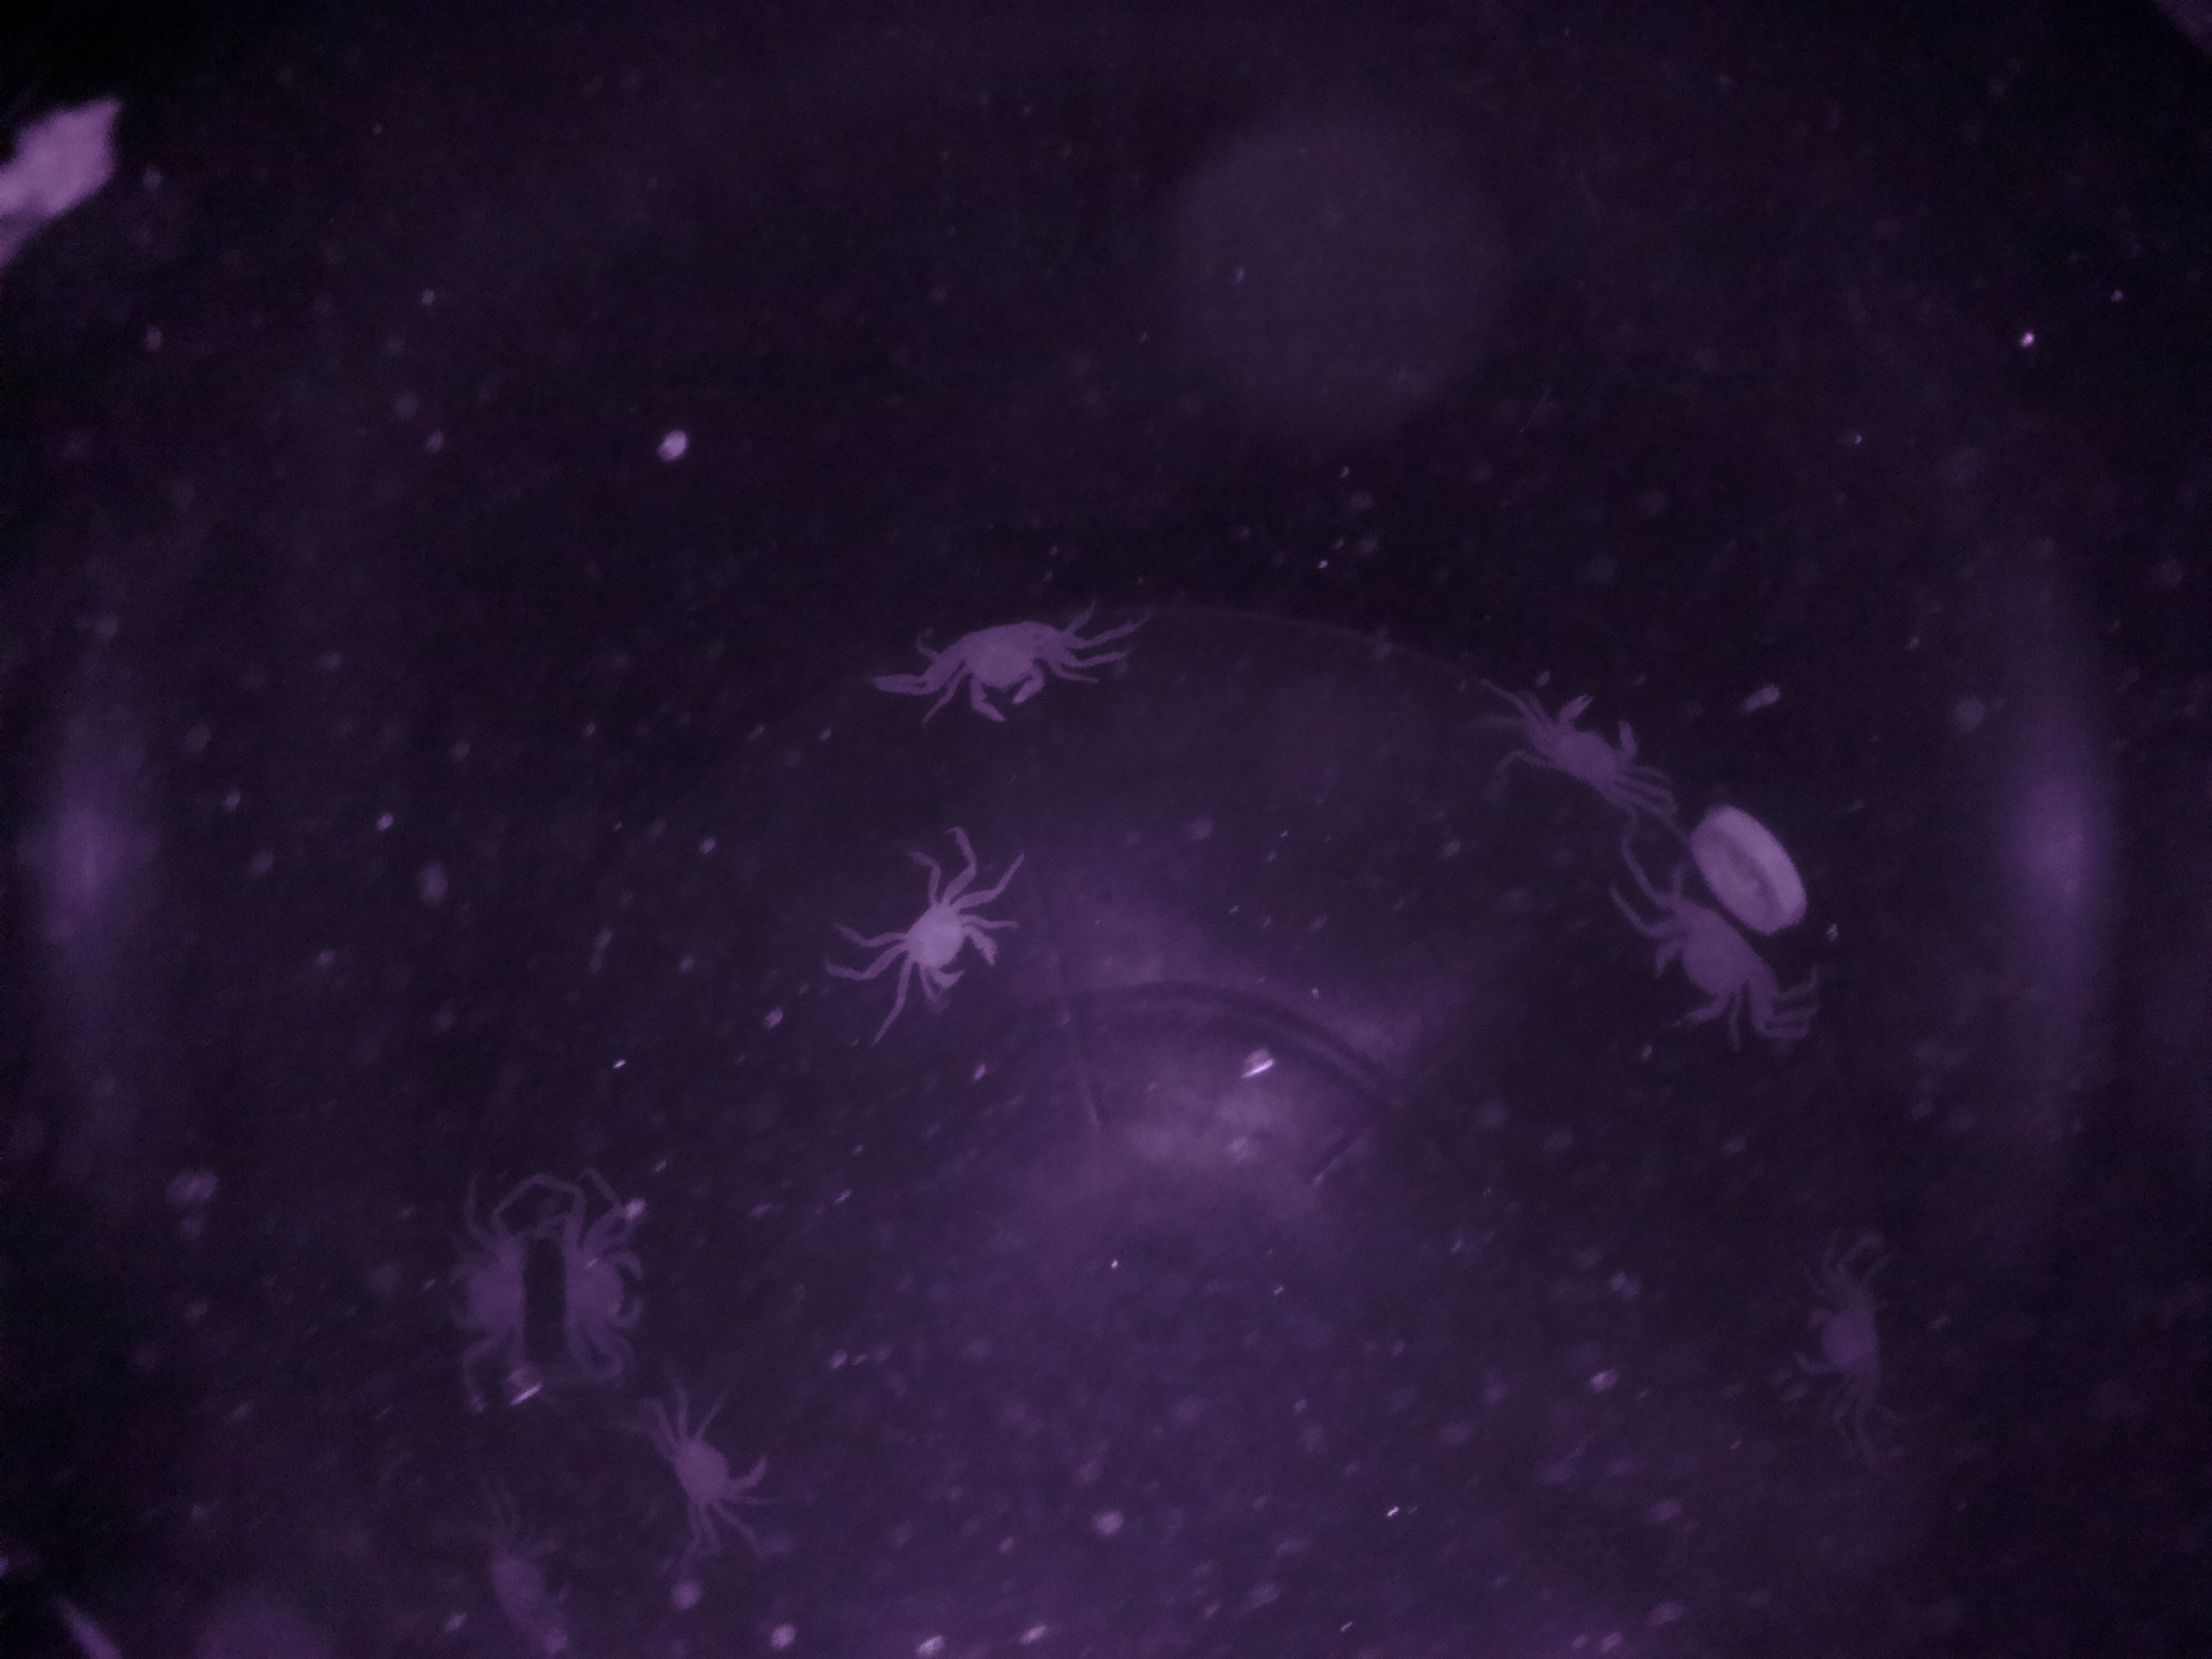Crab: (1623, 873, 1791, 1049), (899, 598, 1094, 742), (442, 1161, 542, 1443), (637, 1382, 798, 1540), (1514, 669, 1651, 836), (554, 1190, 651, 1420), (880, 871, 1019, 1032)
